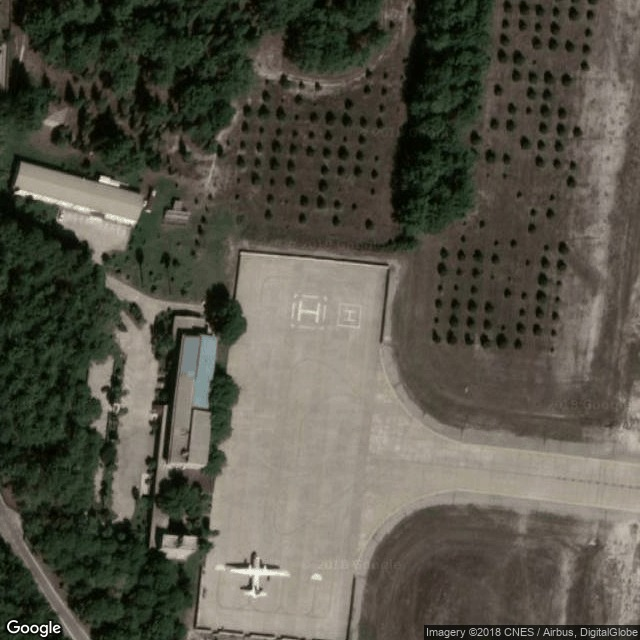heliport: (296, 297, 321, 323), (341, 306, 358, 323)
